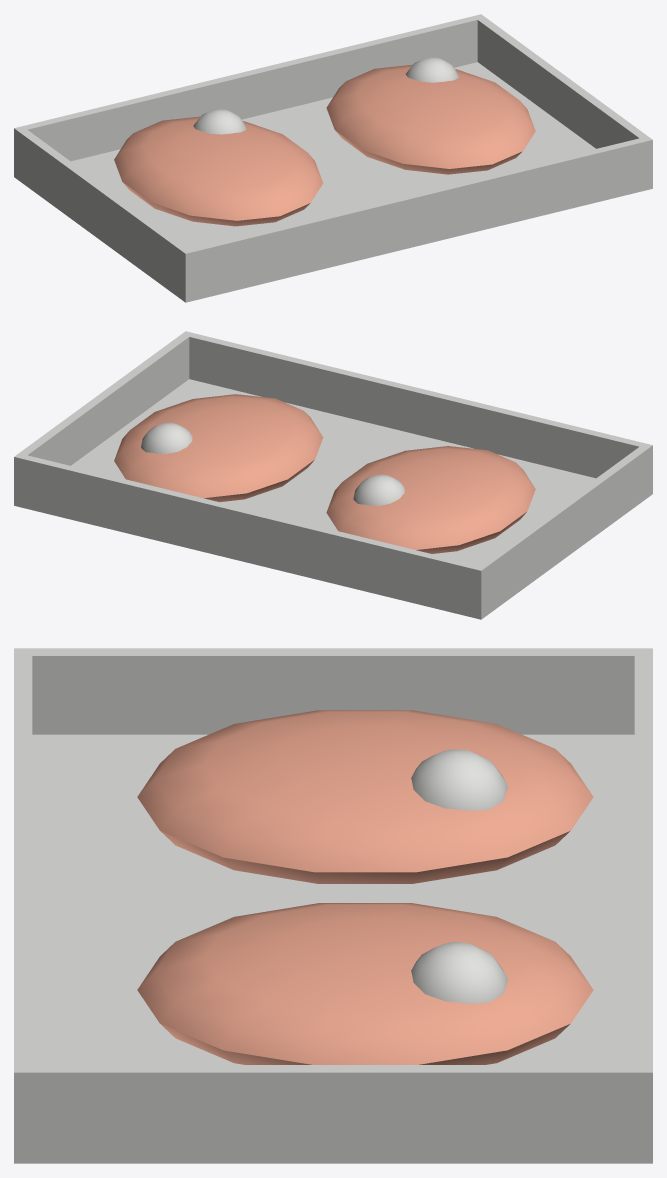
Rendered from Pork_Chops.fbx.
3 renders of one model, top to bottom at view 1: azimuth 30°, elevation 25°; view 2: azimuth 150°, elevation 25°; view 3: azimuth 270°, elevation 25°, orthographic. The views are drawn at different scales.
Parts seen in each view (by area): view 1: Pork_Chops; view 2: Pork_Chops; view 3: Pork_Chops.
Boxes of the visible parts, box(x1,y1,x2,y2) form: Pork_Chops: box(14, 14, 652, 302); Pork_Chops: box(14, 331, 652, 619); Pork_Chops: box(14, 648, 652, 1163).
Bounding box in the file's own units: 0.22 × 0.03 × 0.14.
